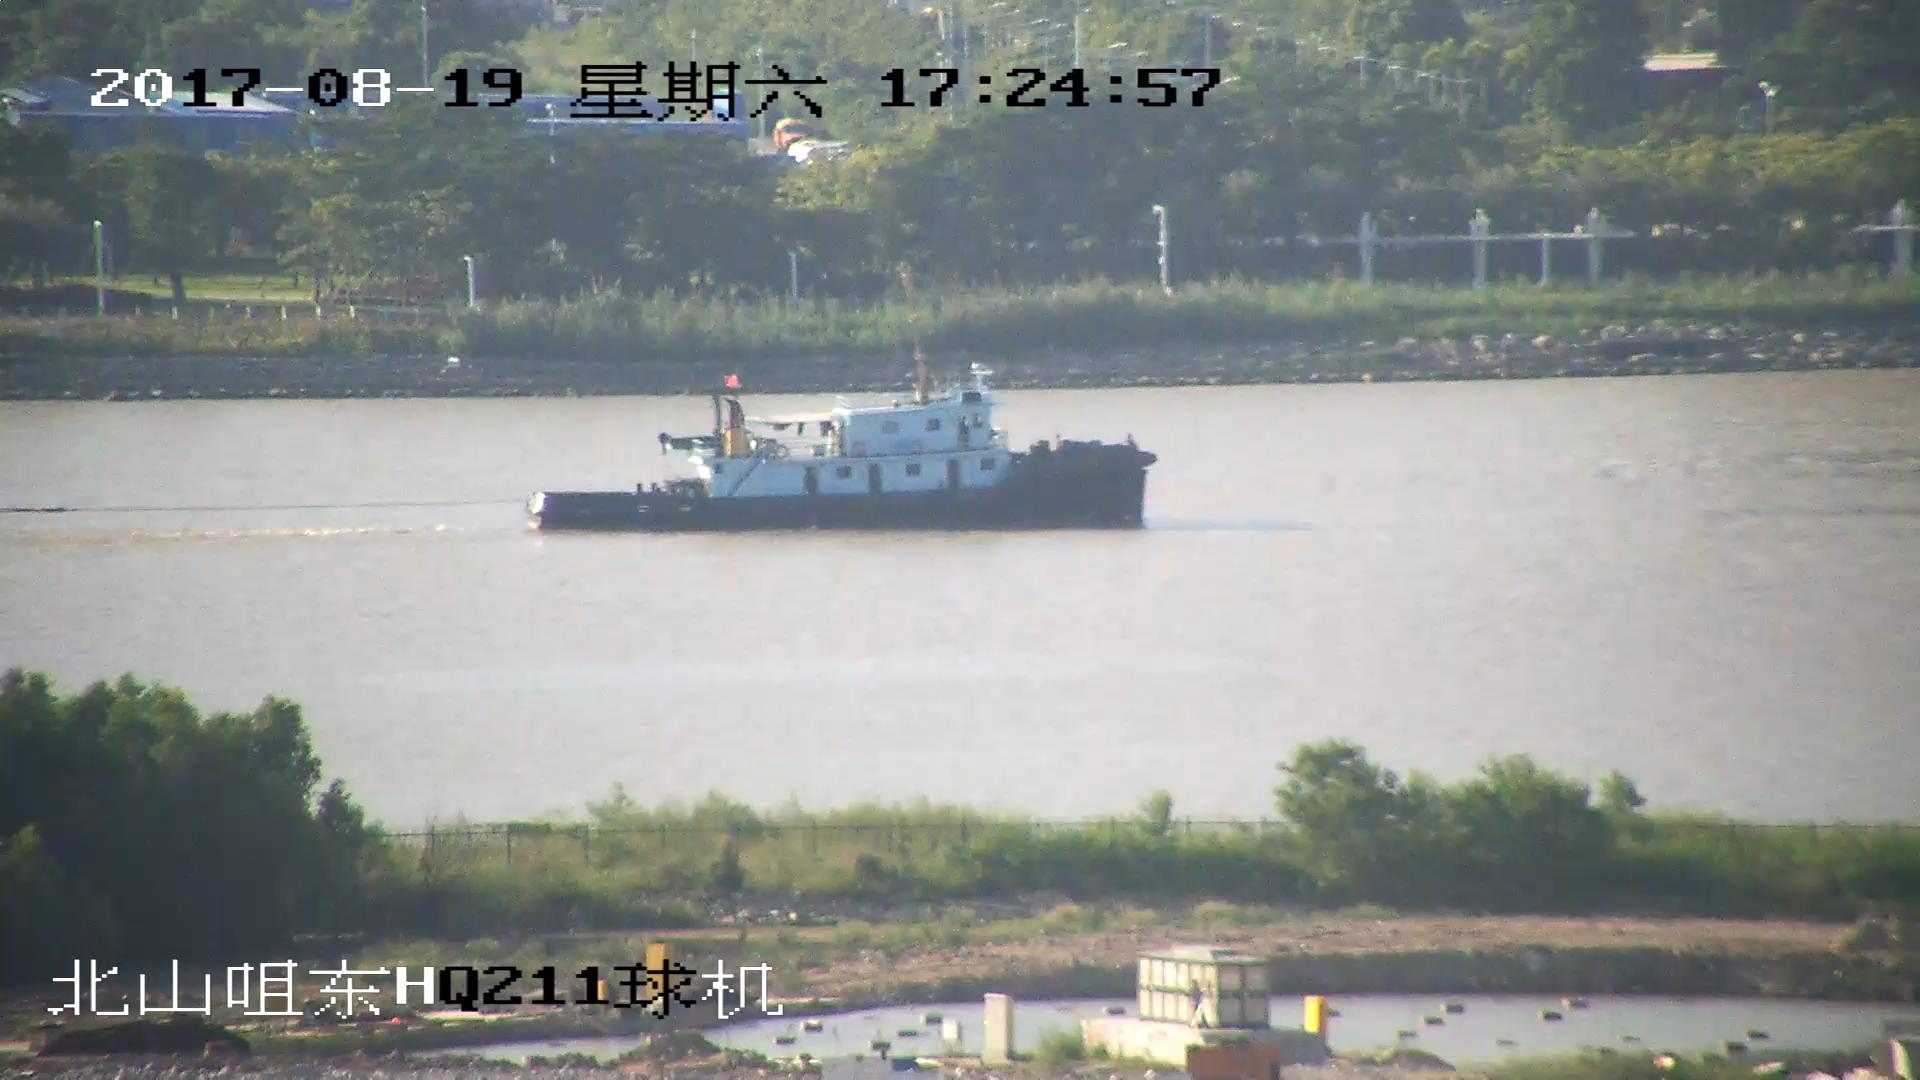fishing boat: (527, 373, 1163, 534)
